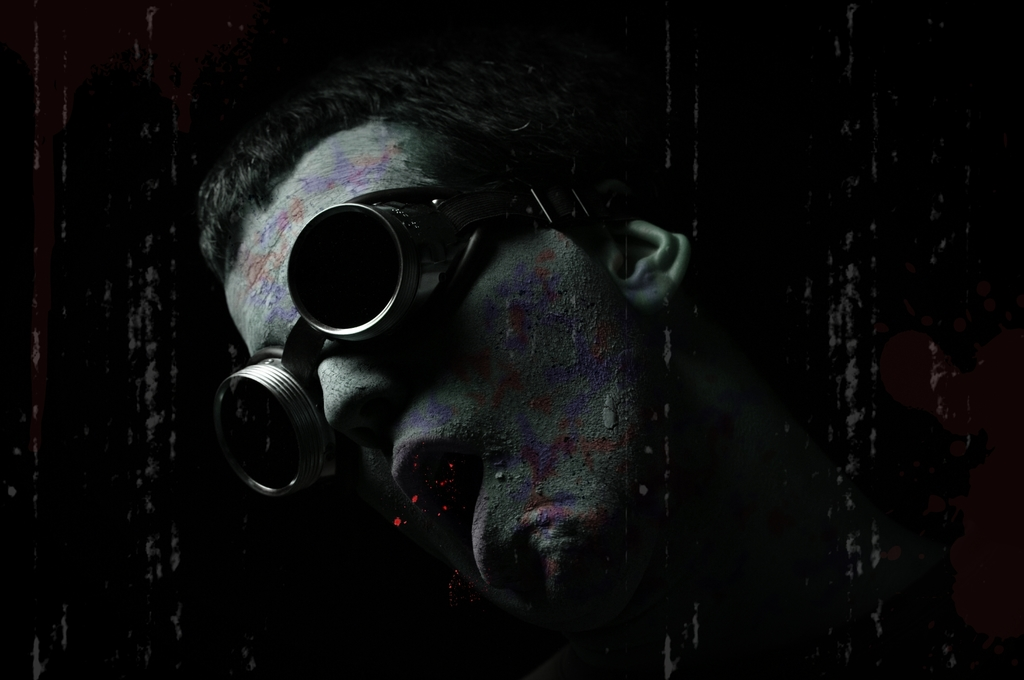Person: (190, 57, 690, 619)
